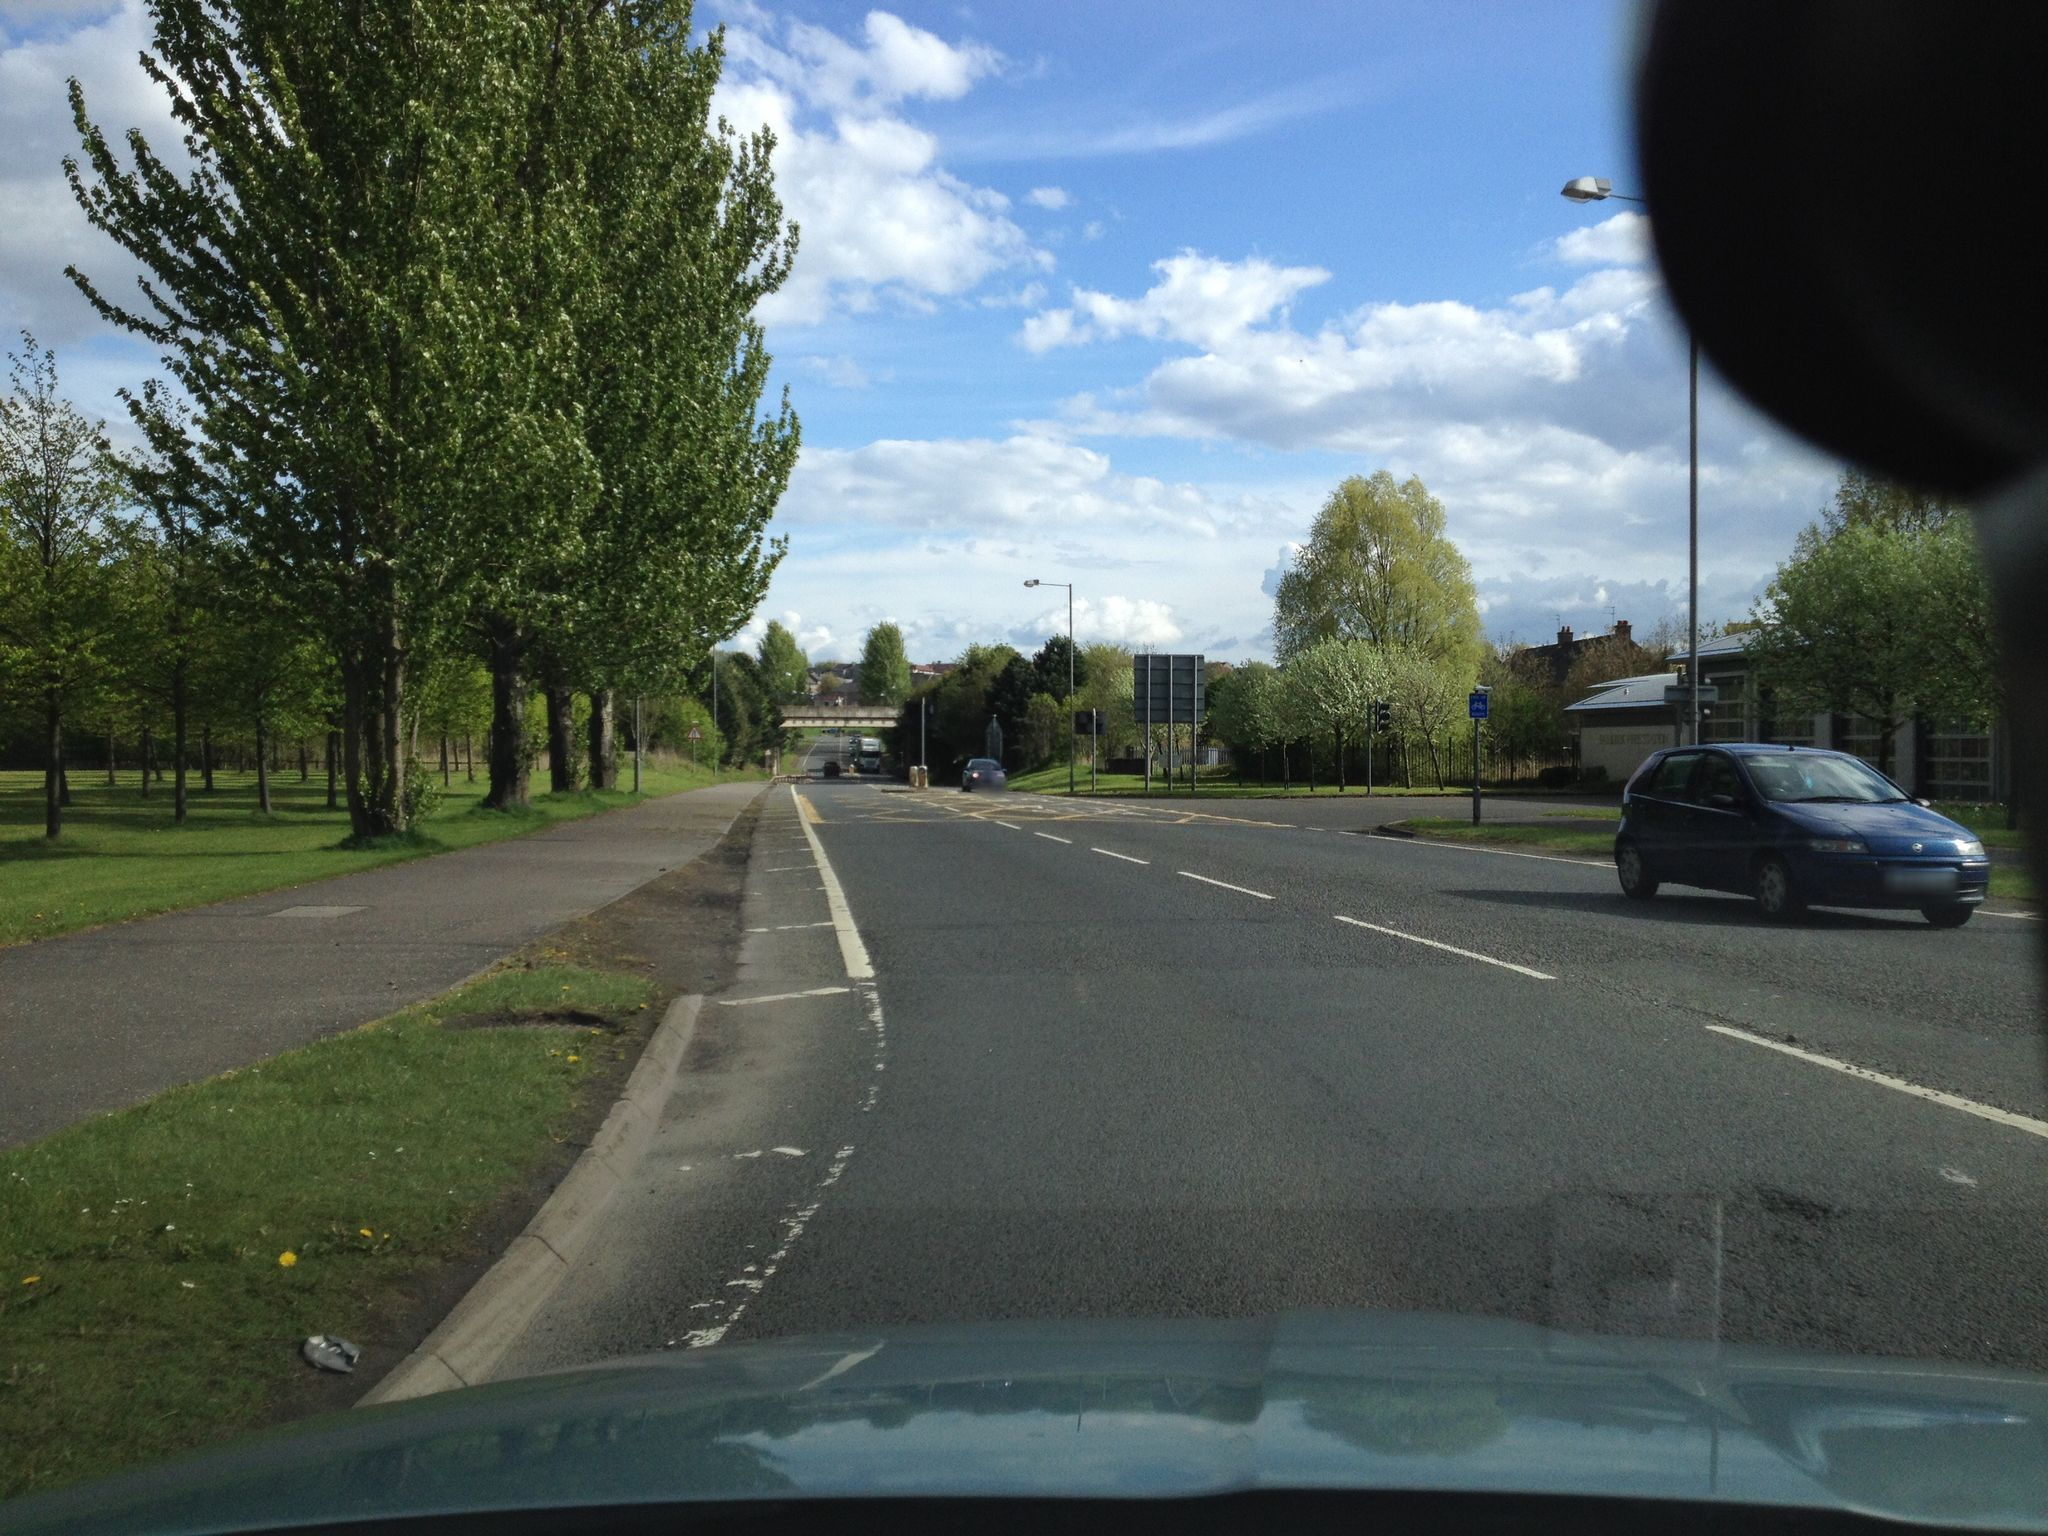car: (1614, 741, 1992, 928), (961, 758, 1006, 791)
